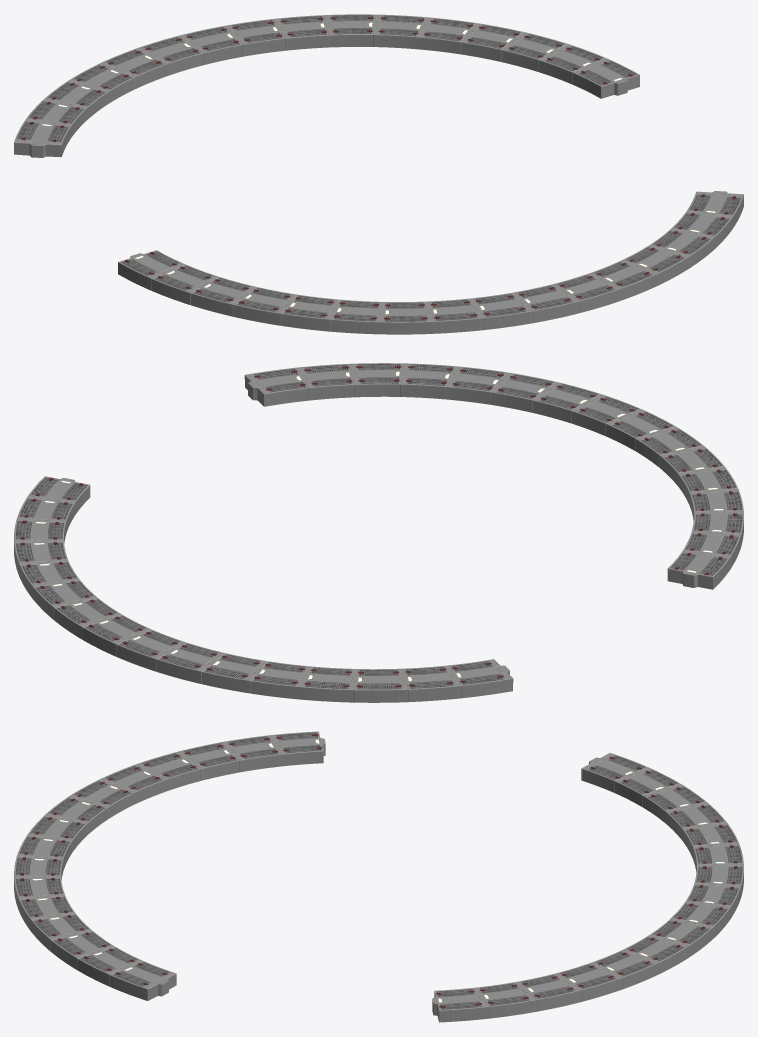
The model's file is TransportPassagesOuter.fbx.
3 views of the same model, one above another, from view 1: azimuth 30°, elevation 25°; view 2: azimuth 150°, elevation 25°; view 3: azimuth 270°, elevation 25° (orthographic). The views are drawn at different scales.
Parts seen in each view (by area): view 1: TransportPassagesOuter; view 2: TransportPassagesOuter; view 3: TransportPassagesOuter.
Part boxes in pixels (box(x1,y1,x2,y2)): TransportPassagesOuter: box(14, 14, 743, 334); TransportPassagesOuter: box(14, 363, 743, 702); TransportPassagesOuter: box(14, 731, 743, 1022).
Bounding box in the file's own units: 83.95 × 1.71 × 92.78.
